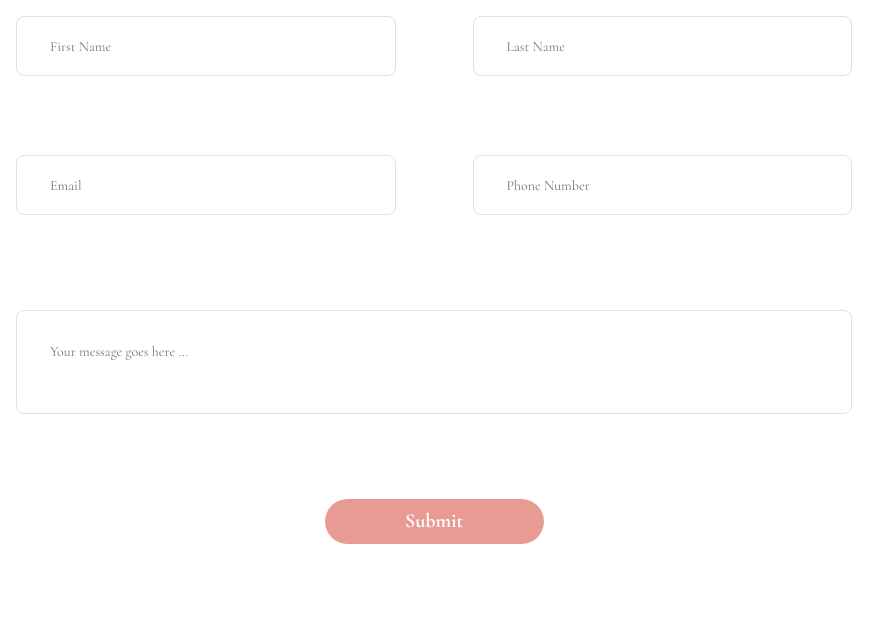
Test: ContactForm component › displays validation errors for invalid data
Click the button "Submit". click: (434, 522)
box: [324,499,544,544]
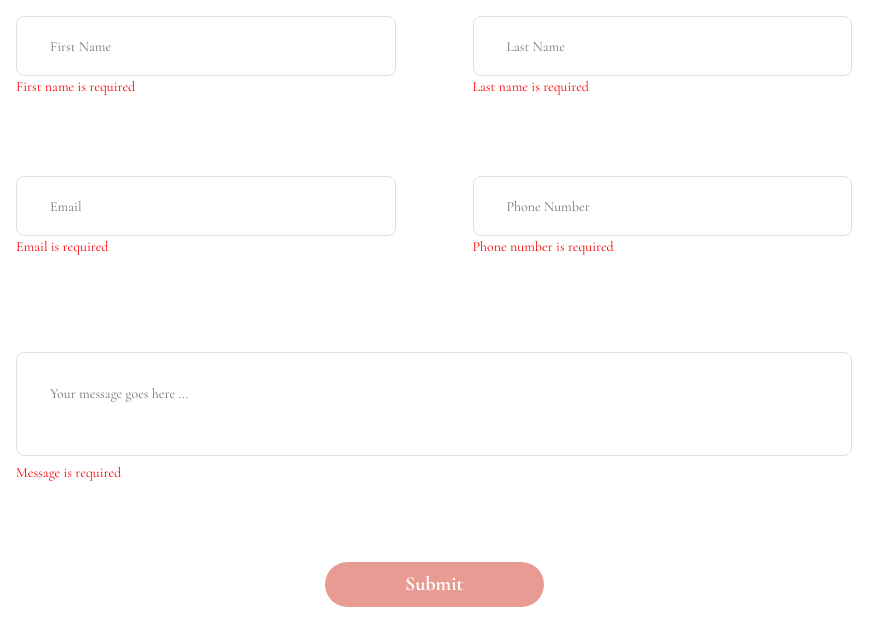
expect the text "First name is required" is shown: met, box [16,78,135,95]
expect the text "Last name is required" is shown: met, box [472,78,589,95]
expect the text "Email is required" is shown: met, box [16,238,108,255]
